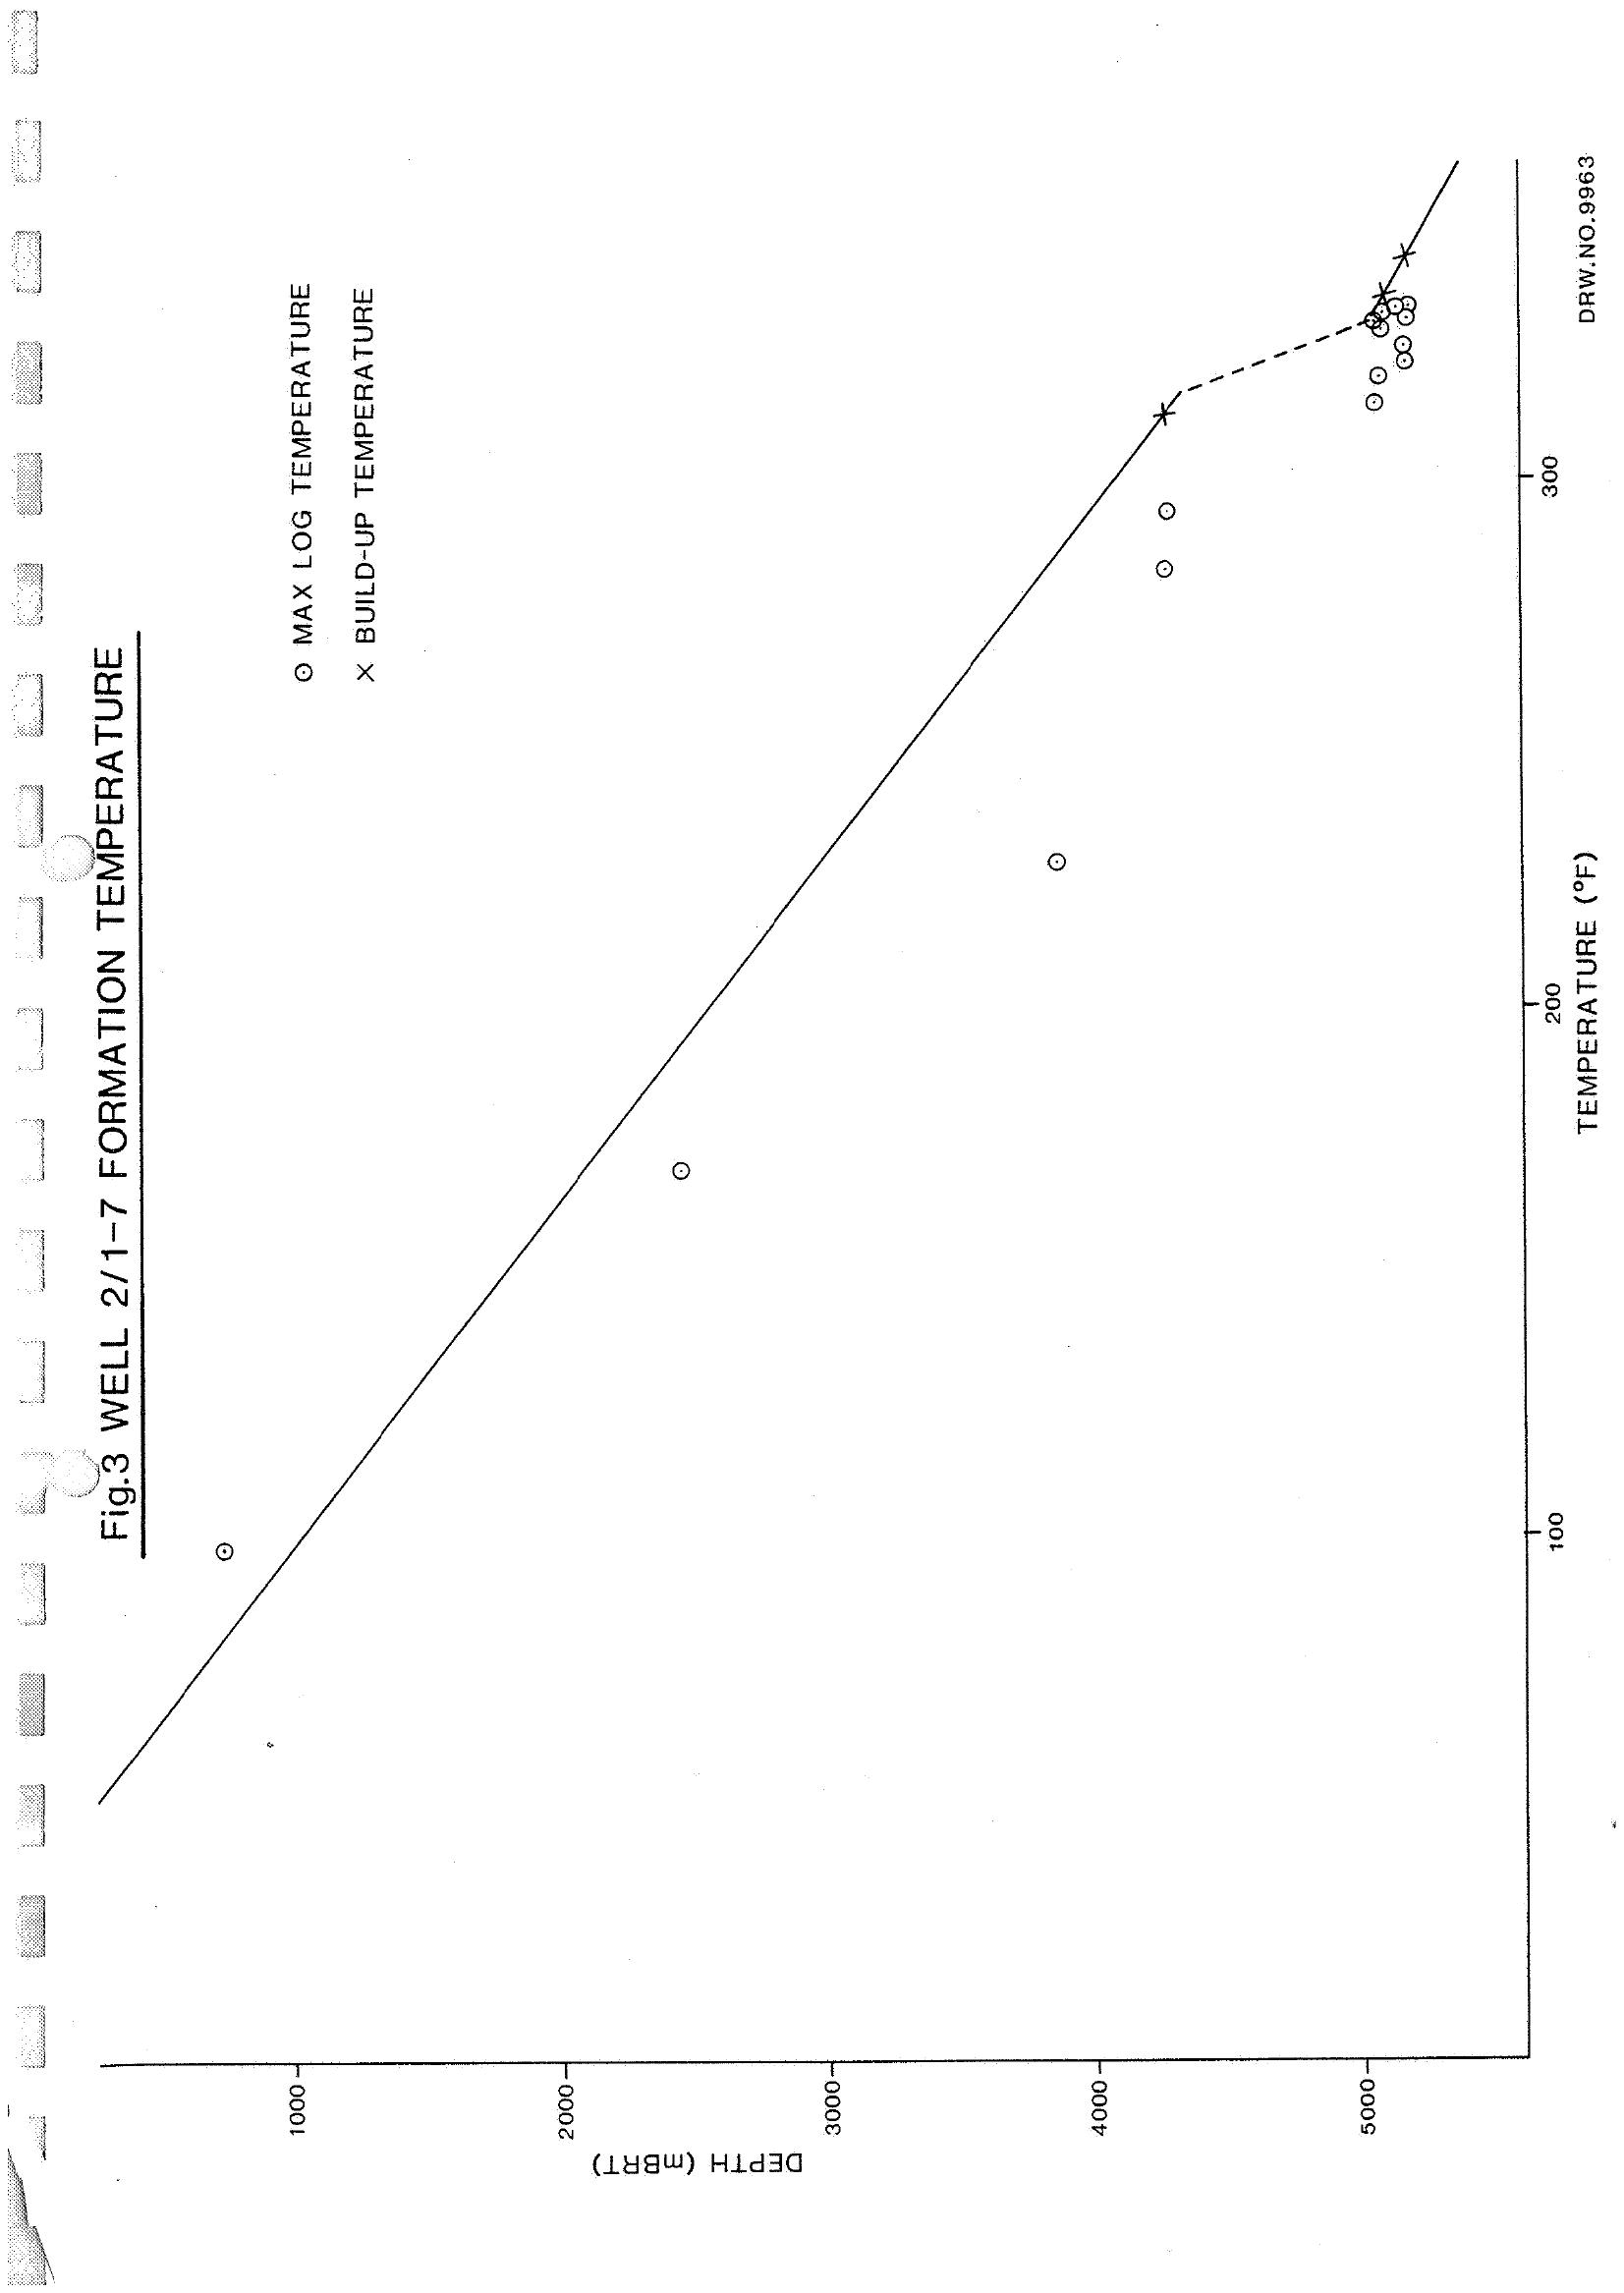graph: (88, 84, 1624, 2209)
